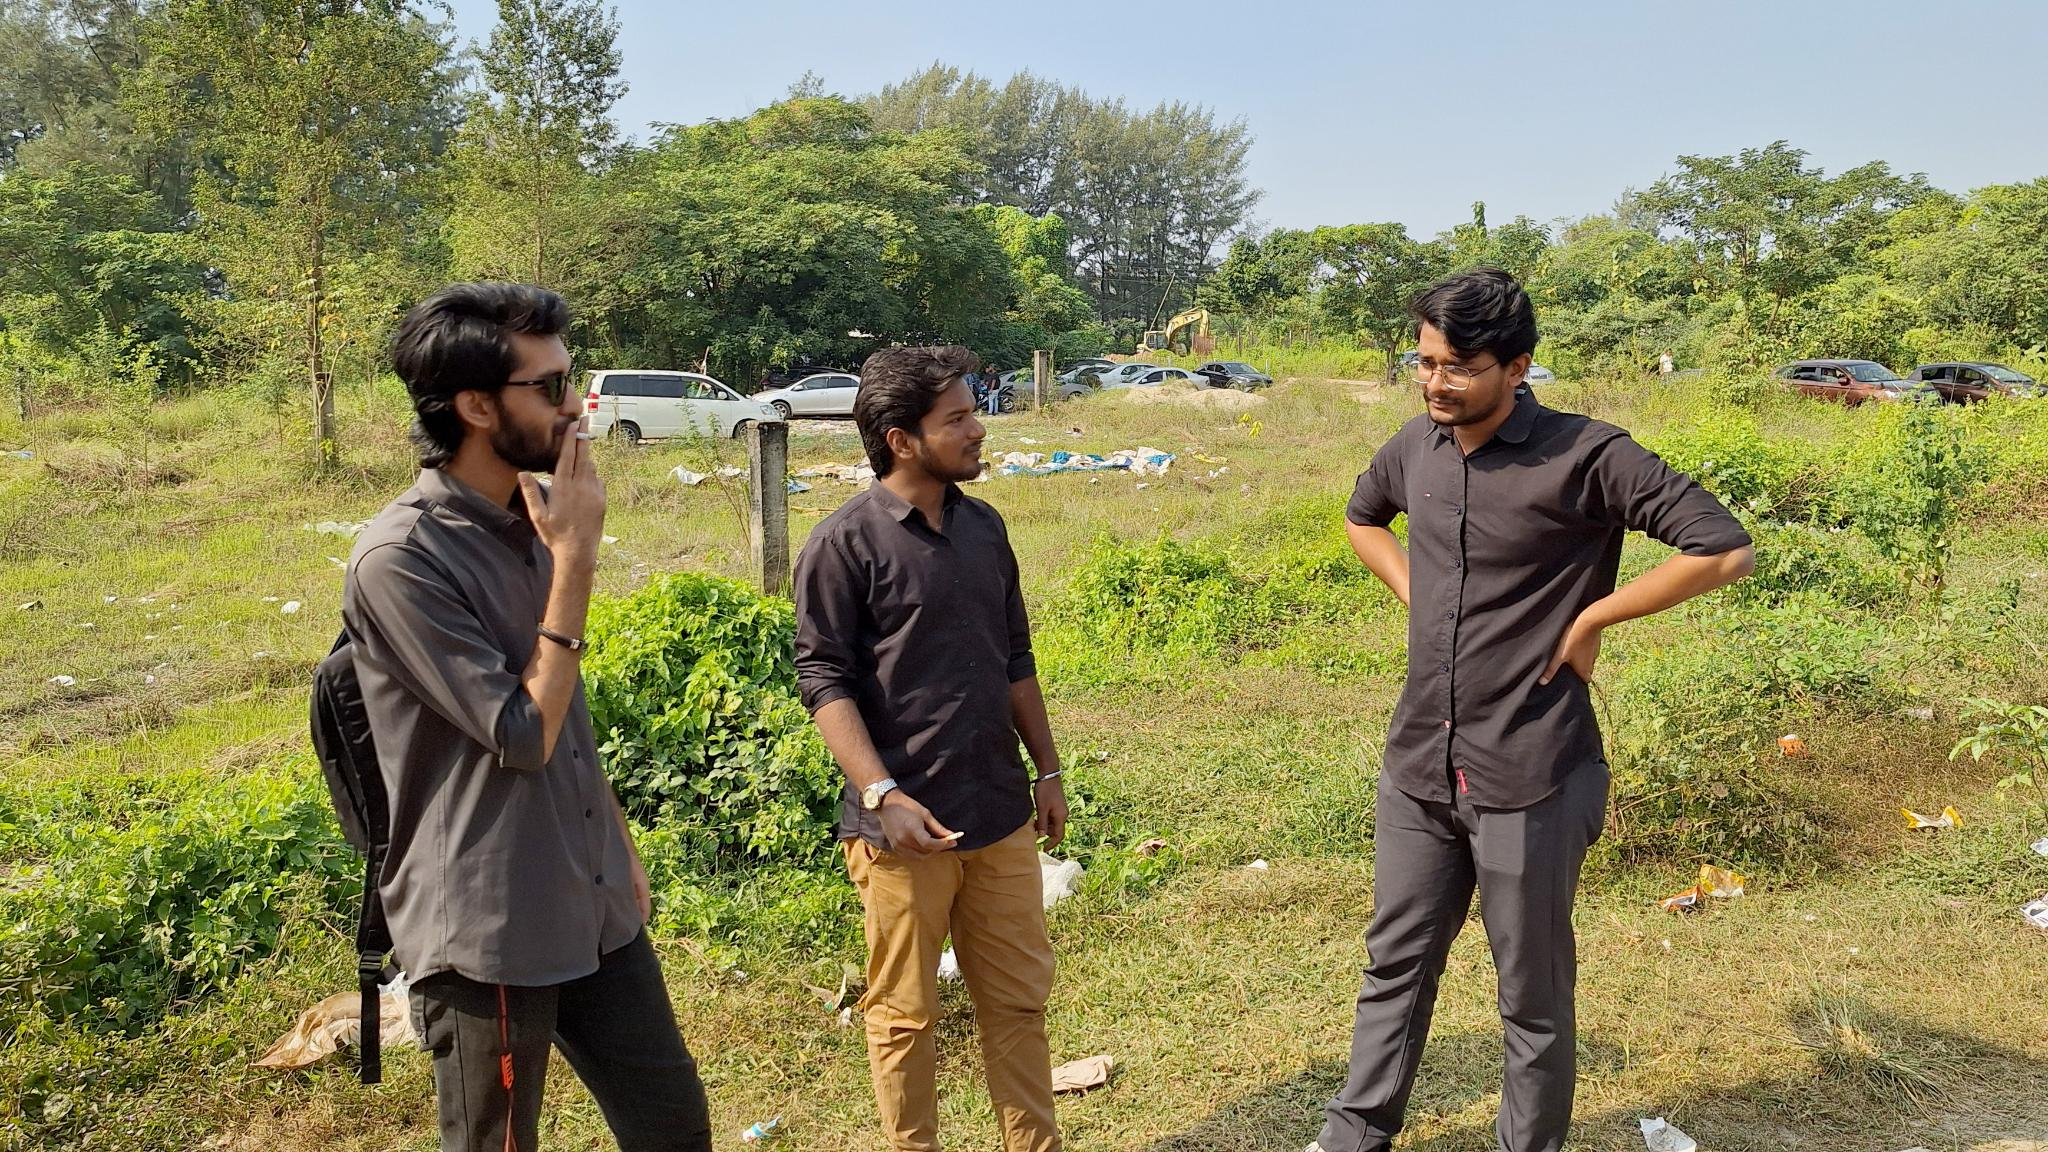cigarette: (942, 828, 965, 843), (574, 430, 601, 442)
nonSmoker: (1304, 269, 1754, 1152)
smoker: (311, 280, 713, 1152), (793, 346, 1069, 1152)
